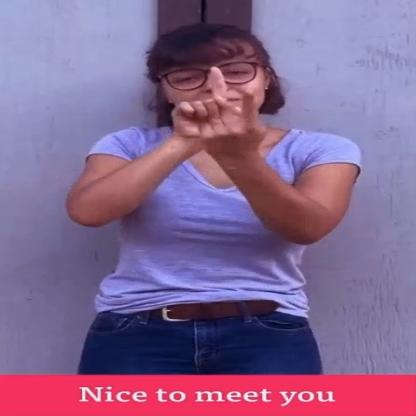NiceToMeetYou: (62, 20, 353, 369)
